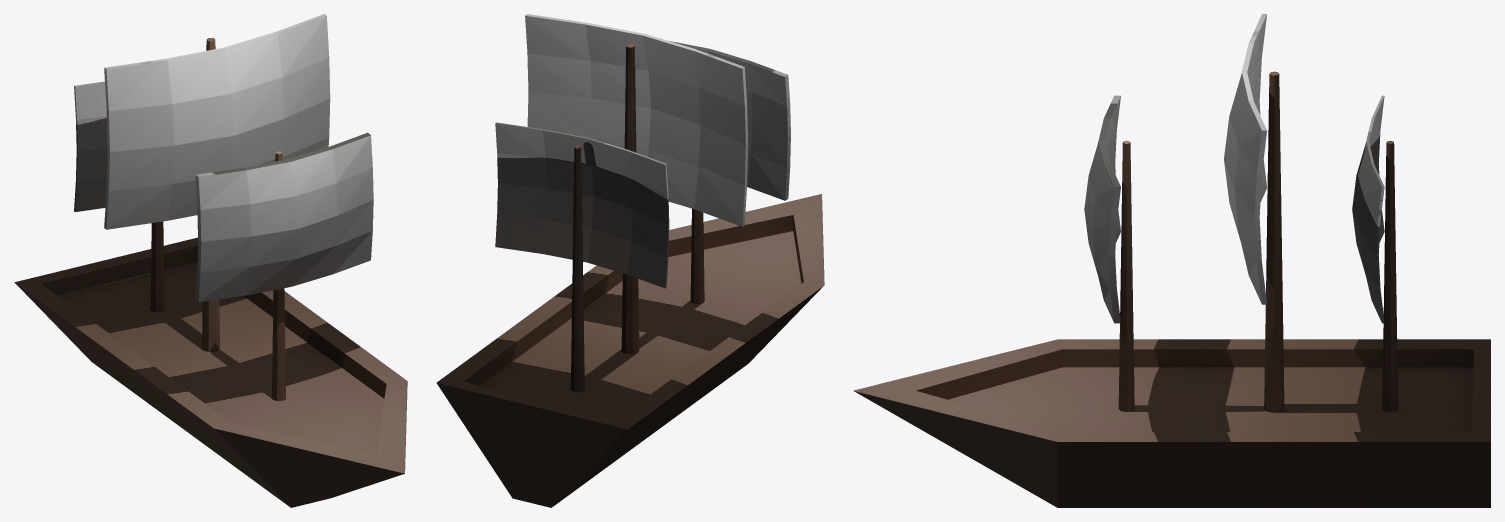
The model's file is ship.glb.
3 renders of one model, left to right at view 1: azimuth 30°, elevation 25°; view 2: azimuth 150°, elevation 25°; view 3: azimuth 270°, elevation 25°, orthographic. The views are drawn at different scales.
Parts seen in each view (by area): view 1: ship; view 2: ship; view 3: ship.
Part boxes in pixels (x1=…): ship: x1=14, y1=14, x2=407, y2=507; ship: x1=436, y1=14, x2=824, y2=507; ship: x1=853, y1=14, x2=1490, y2=507.
Size of the model in its own units: 1.27 by 2.17 by 2.94.
1 material, 1 textured.
